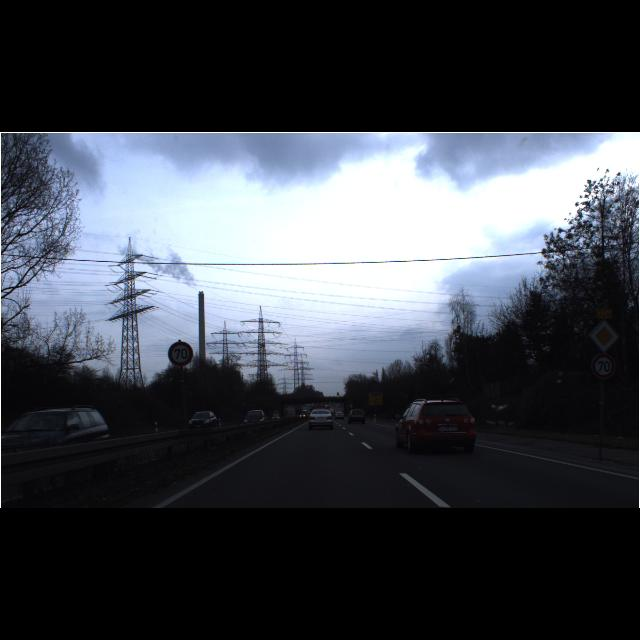other: (588, 319, 620, 353)
prohibitory: (590, 354, 616, 378), (167, 342, 193, 366)
